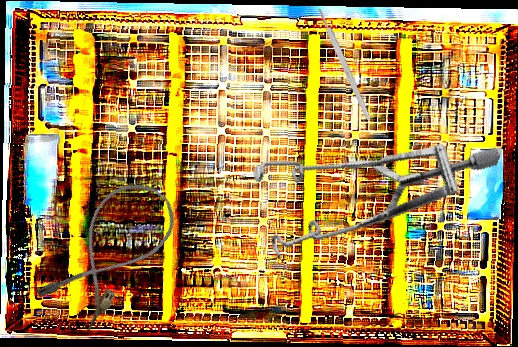Cannula: (31, 168, 187, 336)
Scalpel Handle: (316, 6, 373, 123)
Speculum: (228, 69, 504, 319)
